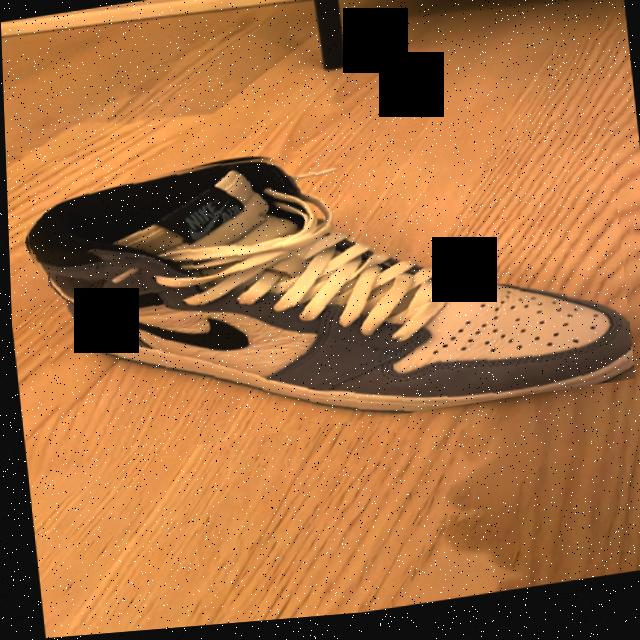shoe: (16, 110, 633, 469)
